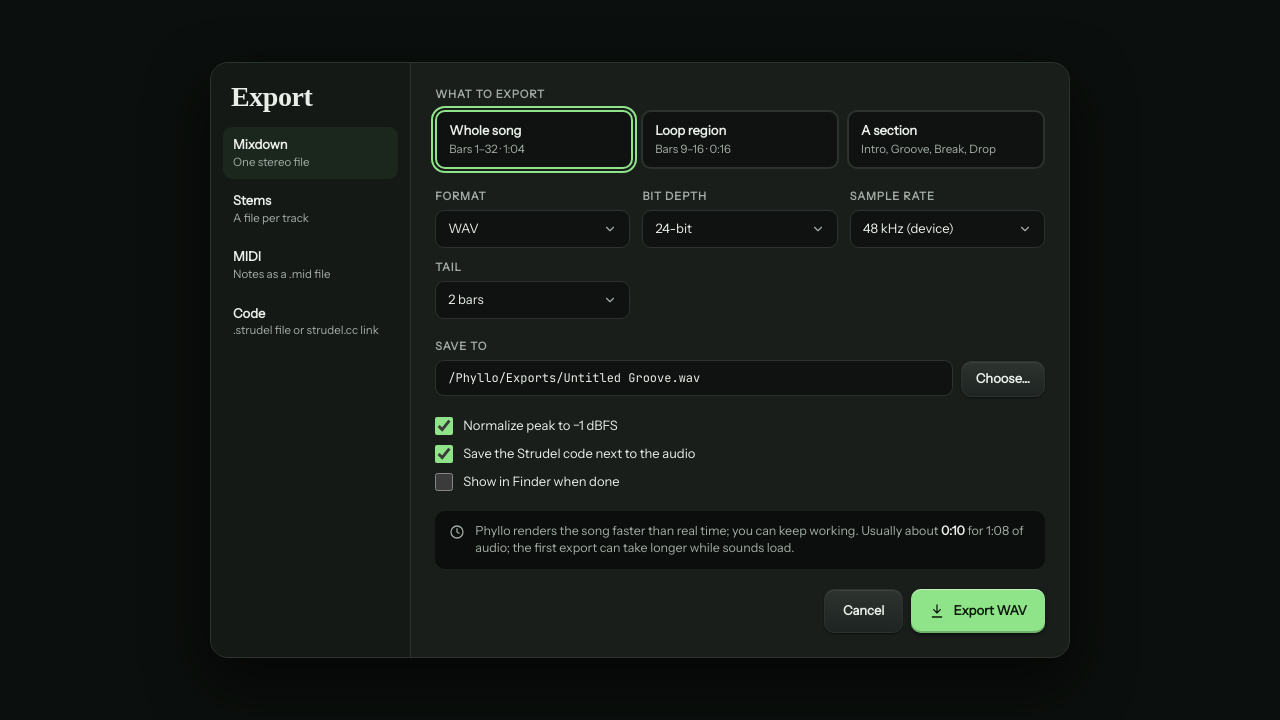
Scenario: ExportDialog › should take a free name for the default code file instead of replacing one
Click the button "Code .strudel file or strudel.cc link" at (311, 322), box top-left (223, 296), bottom-right (398, 348)
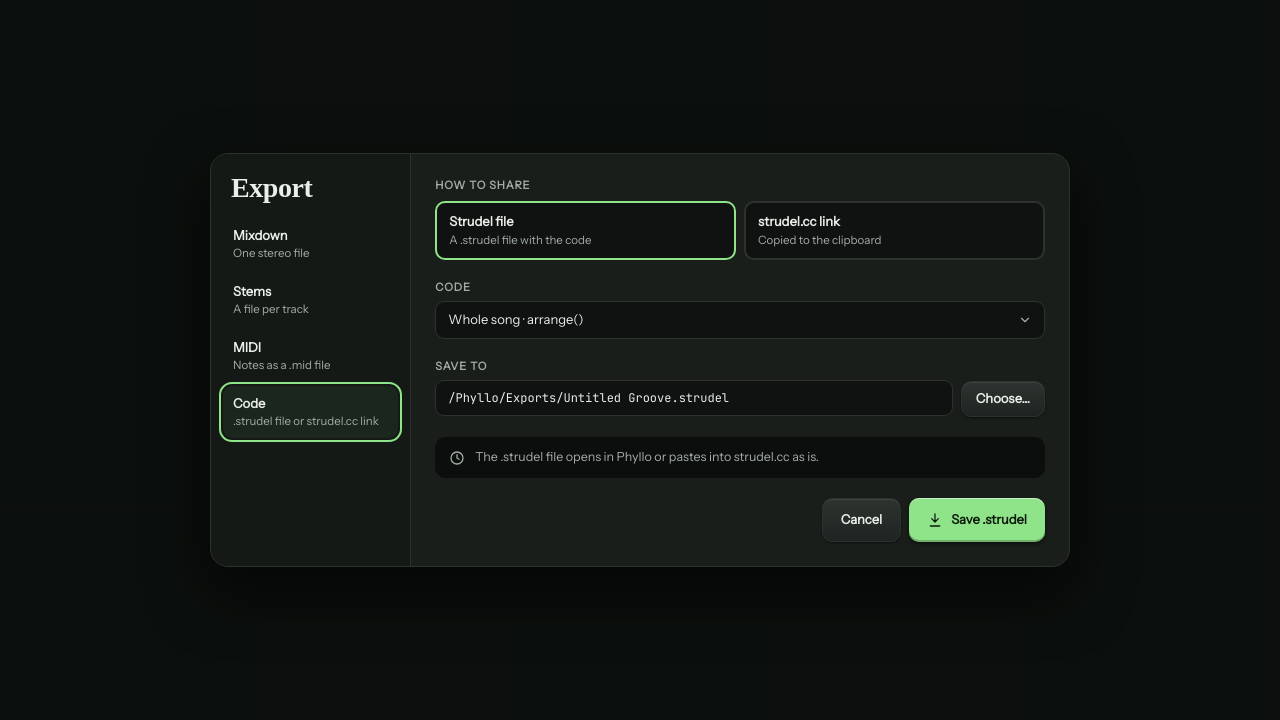
Click the button "Save .strudel" at (977, 520), box top-left (909, 498), bottom-right (1045, 542)
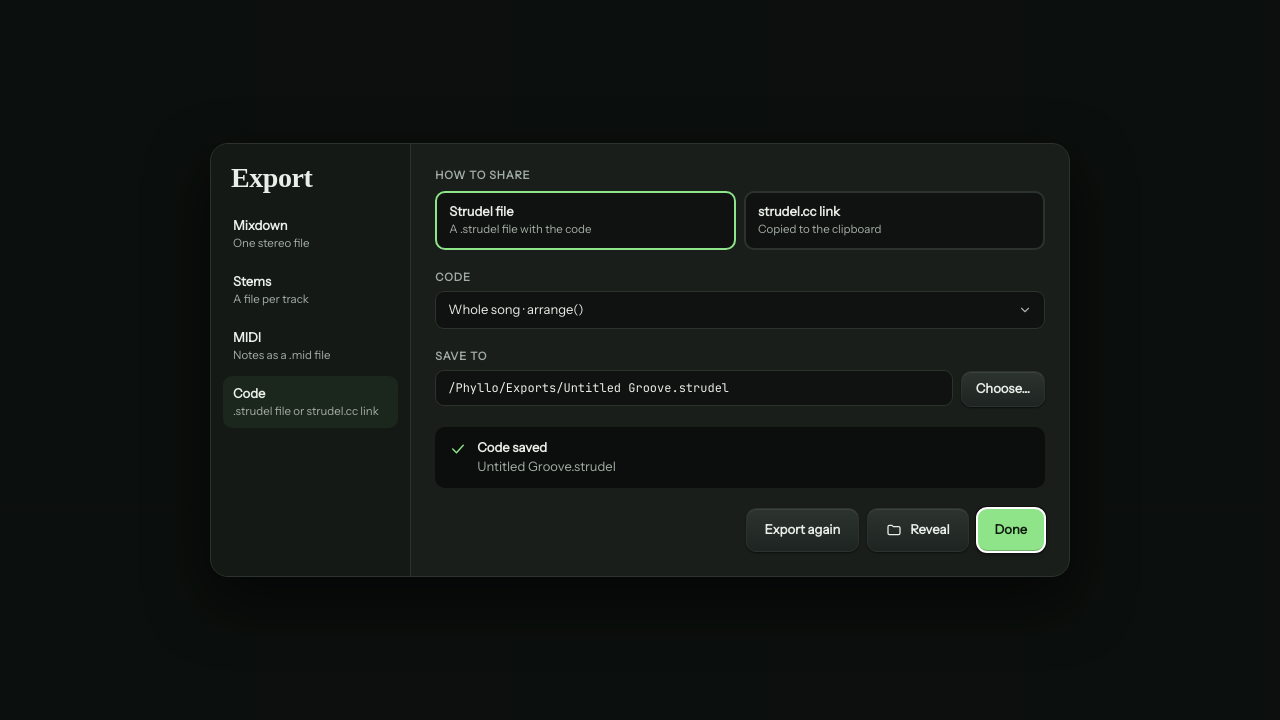
Result: the message "Code saved Untitled Groove.strudel" is shown at top-left (435, 427), bottom-right (1045, 488)
